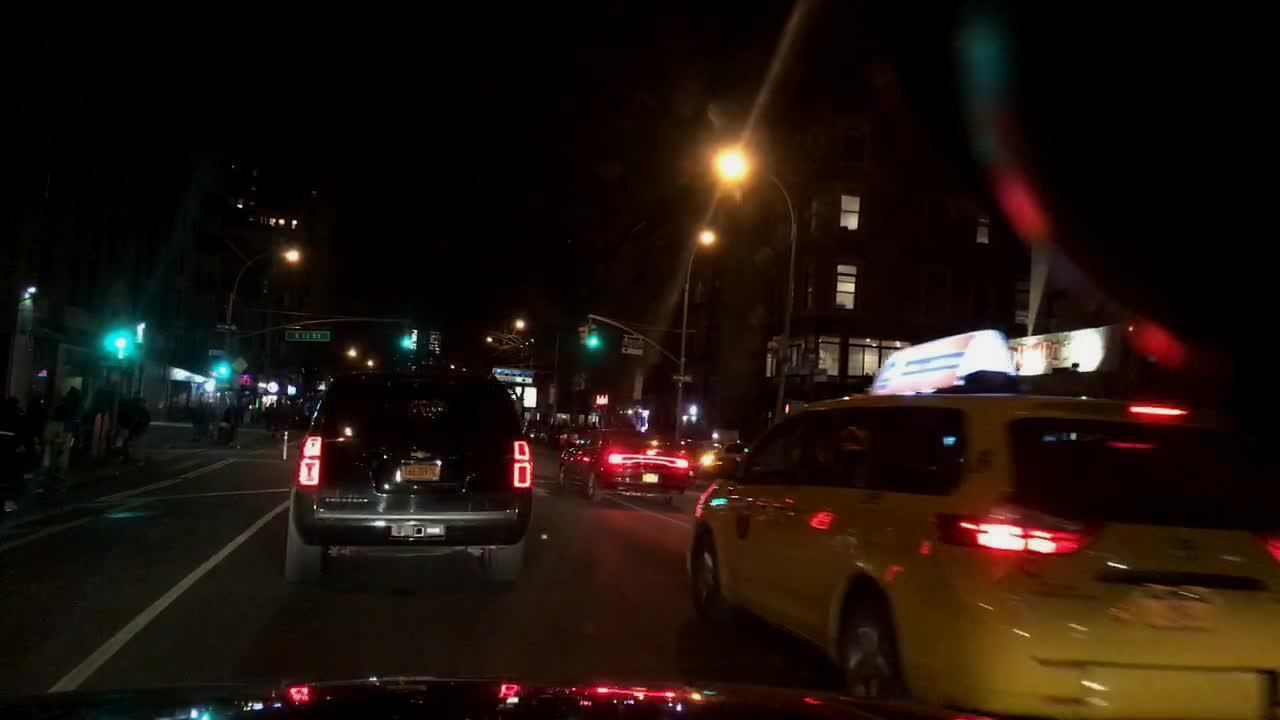chevrolet: (407, 442, 443, 460)
